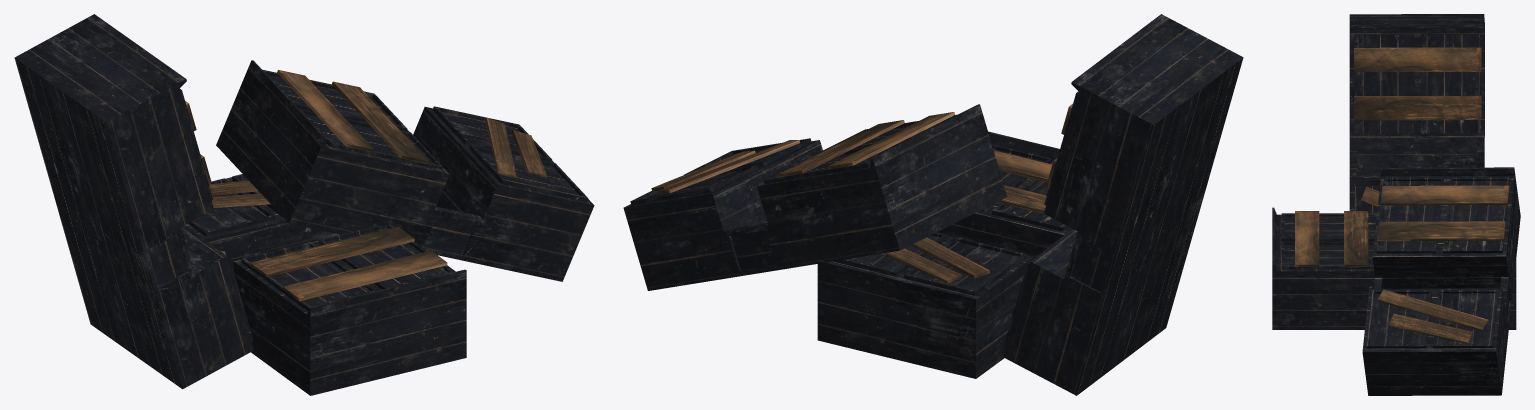
Rendered from Things.fbx.
3 views of the same model, side by side, from view 1: azimuth 30°, elevation 25°; view 2: azimuth 150°, elevation 25°; view 3: azimuth 270°, elevation 25° (orthographic). The views are drawn at different scales.
Parts seen in each view (by area): view 1: Drawer, Drawer.002, Drawer.001; view 2: Drawer, Drawer.002, Drawer.001; view 3: Drawer.002, Drawer, Drawer.001.
Part boxes in pixels (x1,y1,x2,y2): Drawer: (14, 14, 253, 389); Drawer.002: (216, 60, 594, 281); Drawer.001: (184, 174, 466, 395); Drawer: (1003, 14, 1243, 395); Drawer.002: (623, 104, 1007, 290); Drawer.001: (817, 131, 1072, 378); Drawer.002: (1362, 167, 1520, 395); Drawer: (1349, 14, 1484, 213); Drawer.001: (1272, 207, 1516, 329).
Size of the model in its own units: 480 by 276 by 269.
